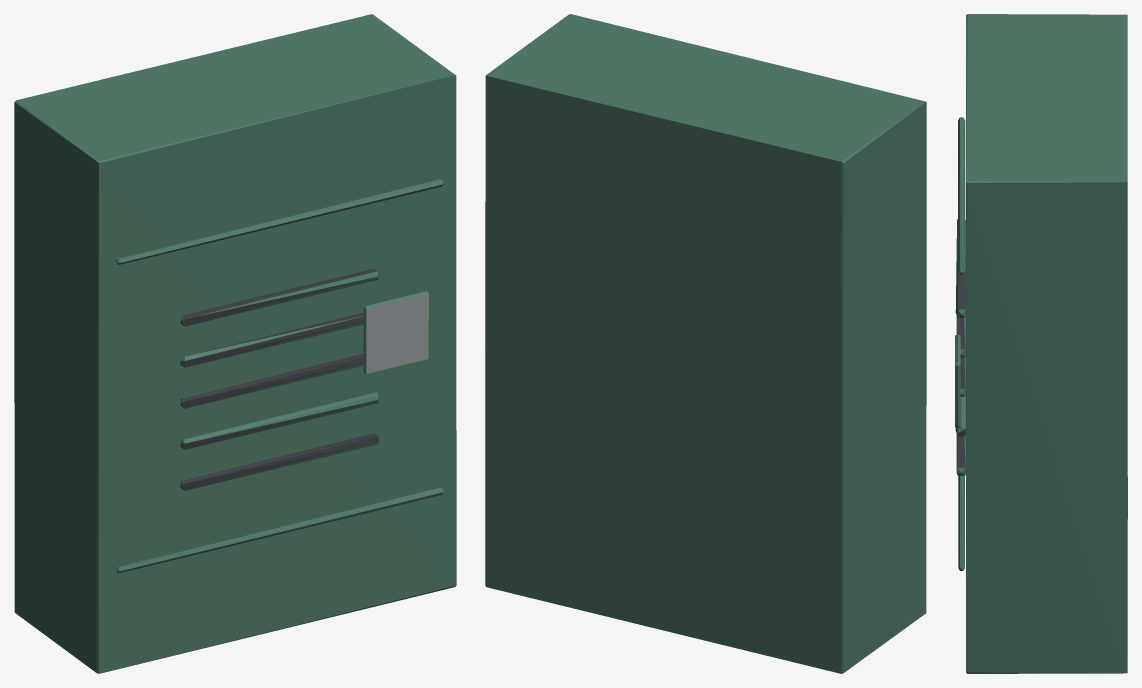
The model's file is prop_utility_cabinet_lod1.glb.
3 views of the same model, side by side, from view 1: azimuth 30°, elevation 25°; view 2: azimuth 150°, elevation 25°; view 3: azimuth 270°, elevation 25° (orthographic). The views are drawn at different scales.
Visible parts, largest first — view 1: utility_cabinet.001_lod1; view 2: utility_cabinet.001_lod1; view 3: utility_cabinet.001_lod1.
Part boxes in pixels (bbox=[...]): utility_cabinet.001_lod1: bbox=[14, 14, 456, 673]; utility_cabinet.001_lod1: bbox=[485, 14, 926, 673]; utility_cabinet.001_lod1: bbox=[955, 14, 1127, 673].
Bounding box in the file's own units: 1.1 × 1.5 × 0.4754.
